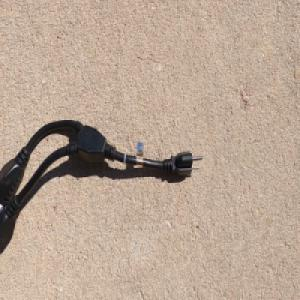Wire: (0, 118, 204, 257)
